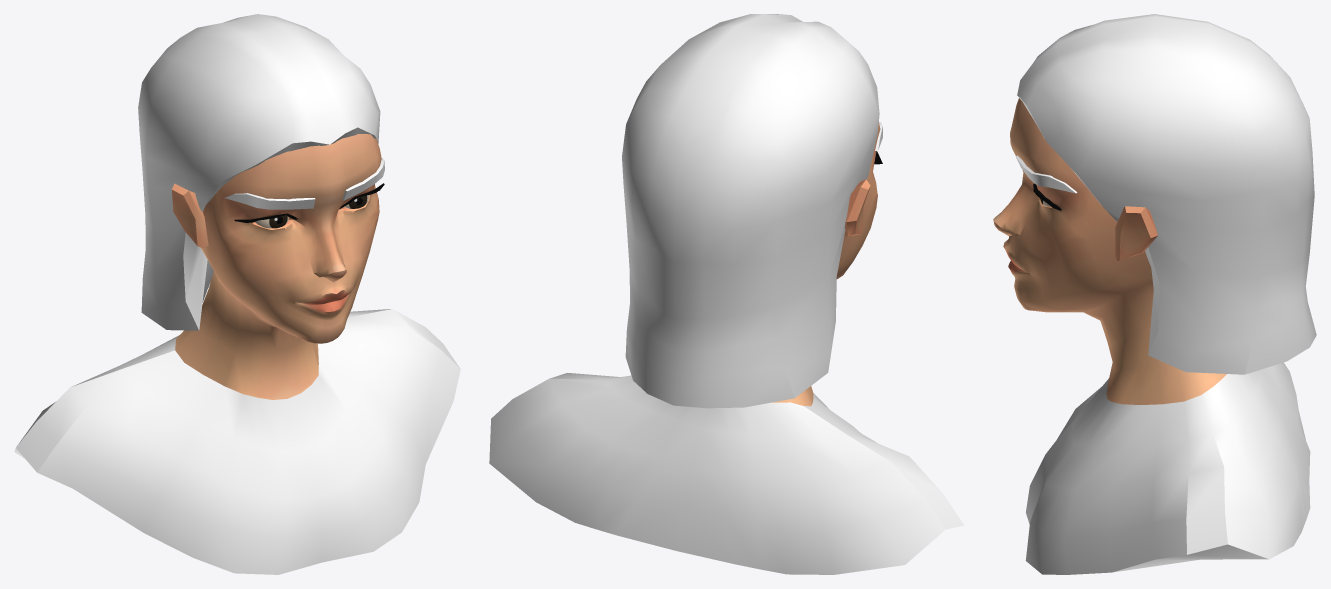
File: Female_Avatar_3.fbx
3 renders of one model, left to right at view 1: azimuth 30°, elevation 25°; view 2: azimuth 150°, elevation 25°; view 3: azimuth 270°, elevation 25°, orthographic. The views are drawn at different scales.
Parts seen in each view (by area): view 1: Female Head.002, Hair_Short, Eyebrow.005; view 2: Hair_Short, Female Head.002; view 3: Hair_Short, Female Head.002, Eyebrow.005.
Part boxes in pixels (x1=…): Female Head.002: x1=14, y1=134, x2=460, y2=574; Hair_Short: x1=138, y1=14, x2=380, y2=330; Eyebrow.005: x1=225, y1=158, x2=384, y2=209; Hair_Short: x1=622, y1=14, x2=879, y2=408; Female Head.002: x1=489, y1=122, x2=964, y2=574; Hair_Short: x1=1017, y1=14, x2=1316, y2=374; Female Head.002: x1=993, y1=98, x2=1310, y2=574; Eyebrow.005: x1=1016, y1=155, x2=1077, y2=193.
Size of the model in its own units: 49.86 by 54.67 by 31.27.
3 materials, 1 textured.
